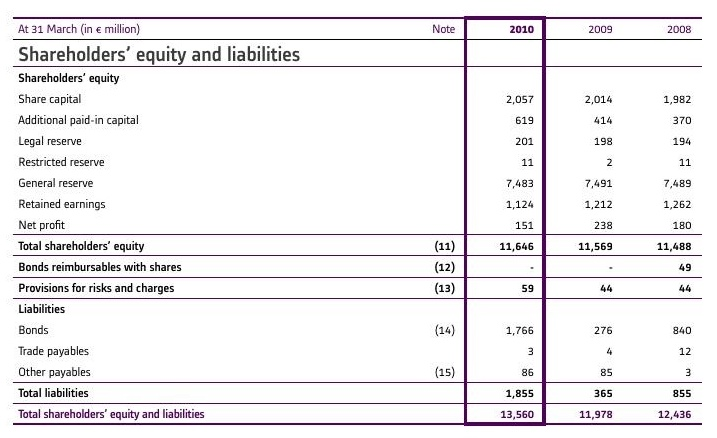table: (0, 0, 717, 438)
